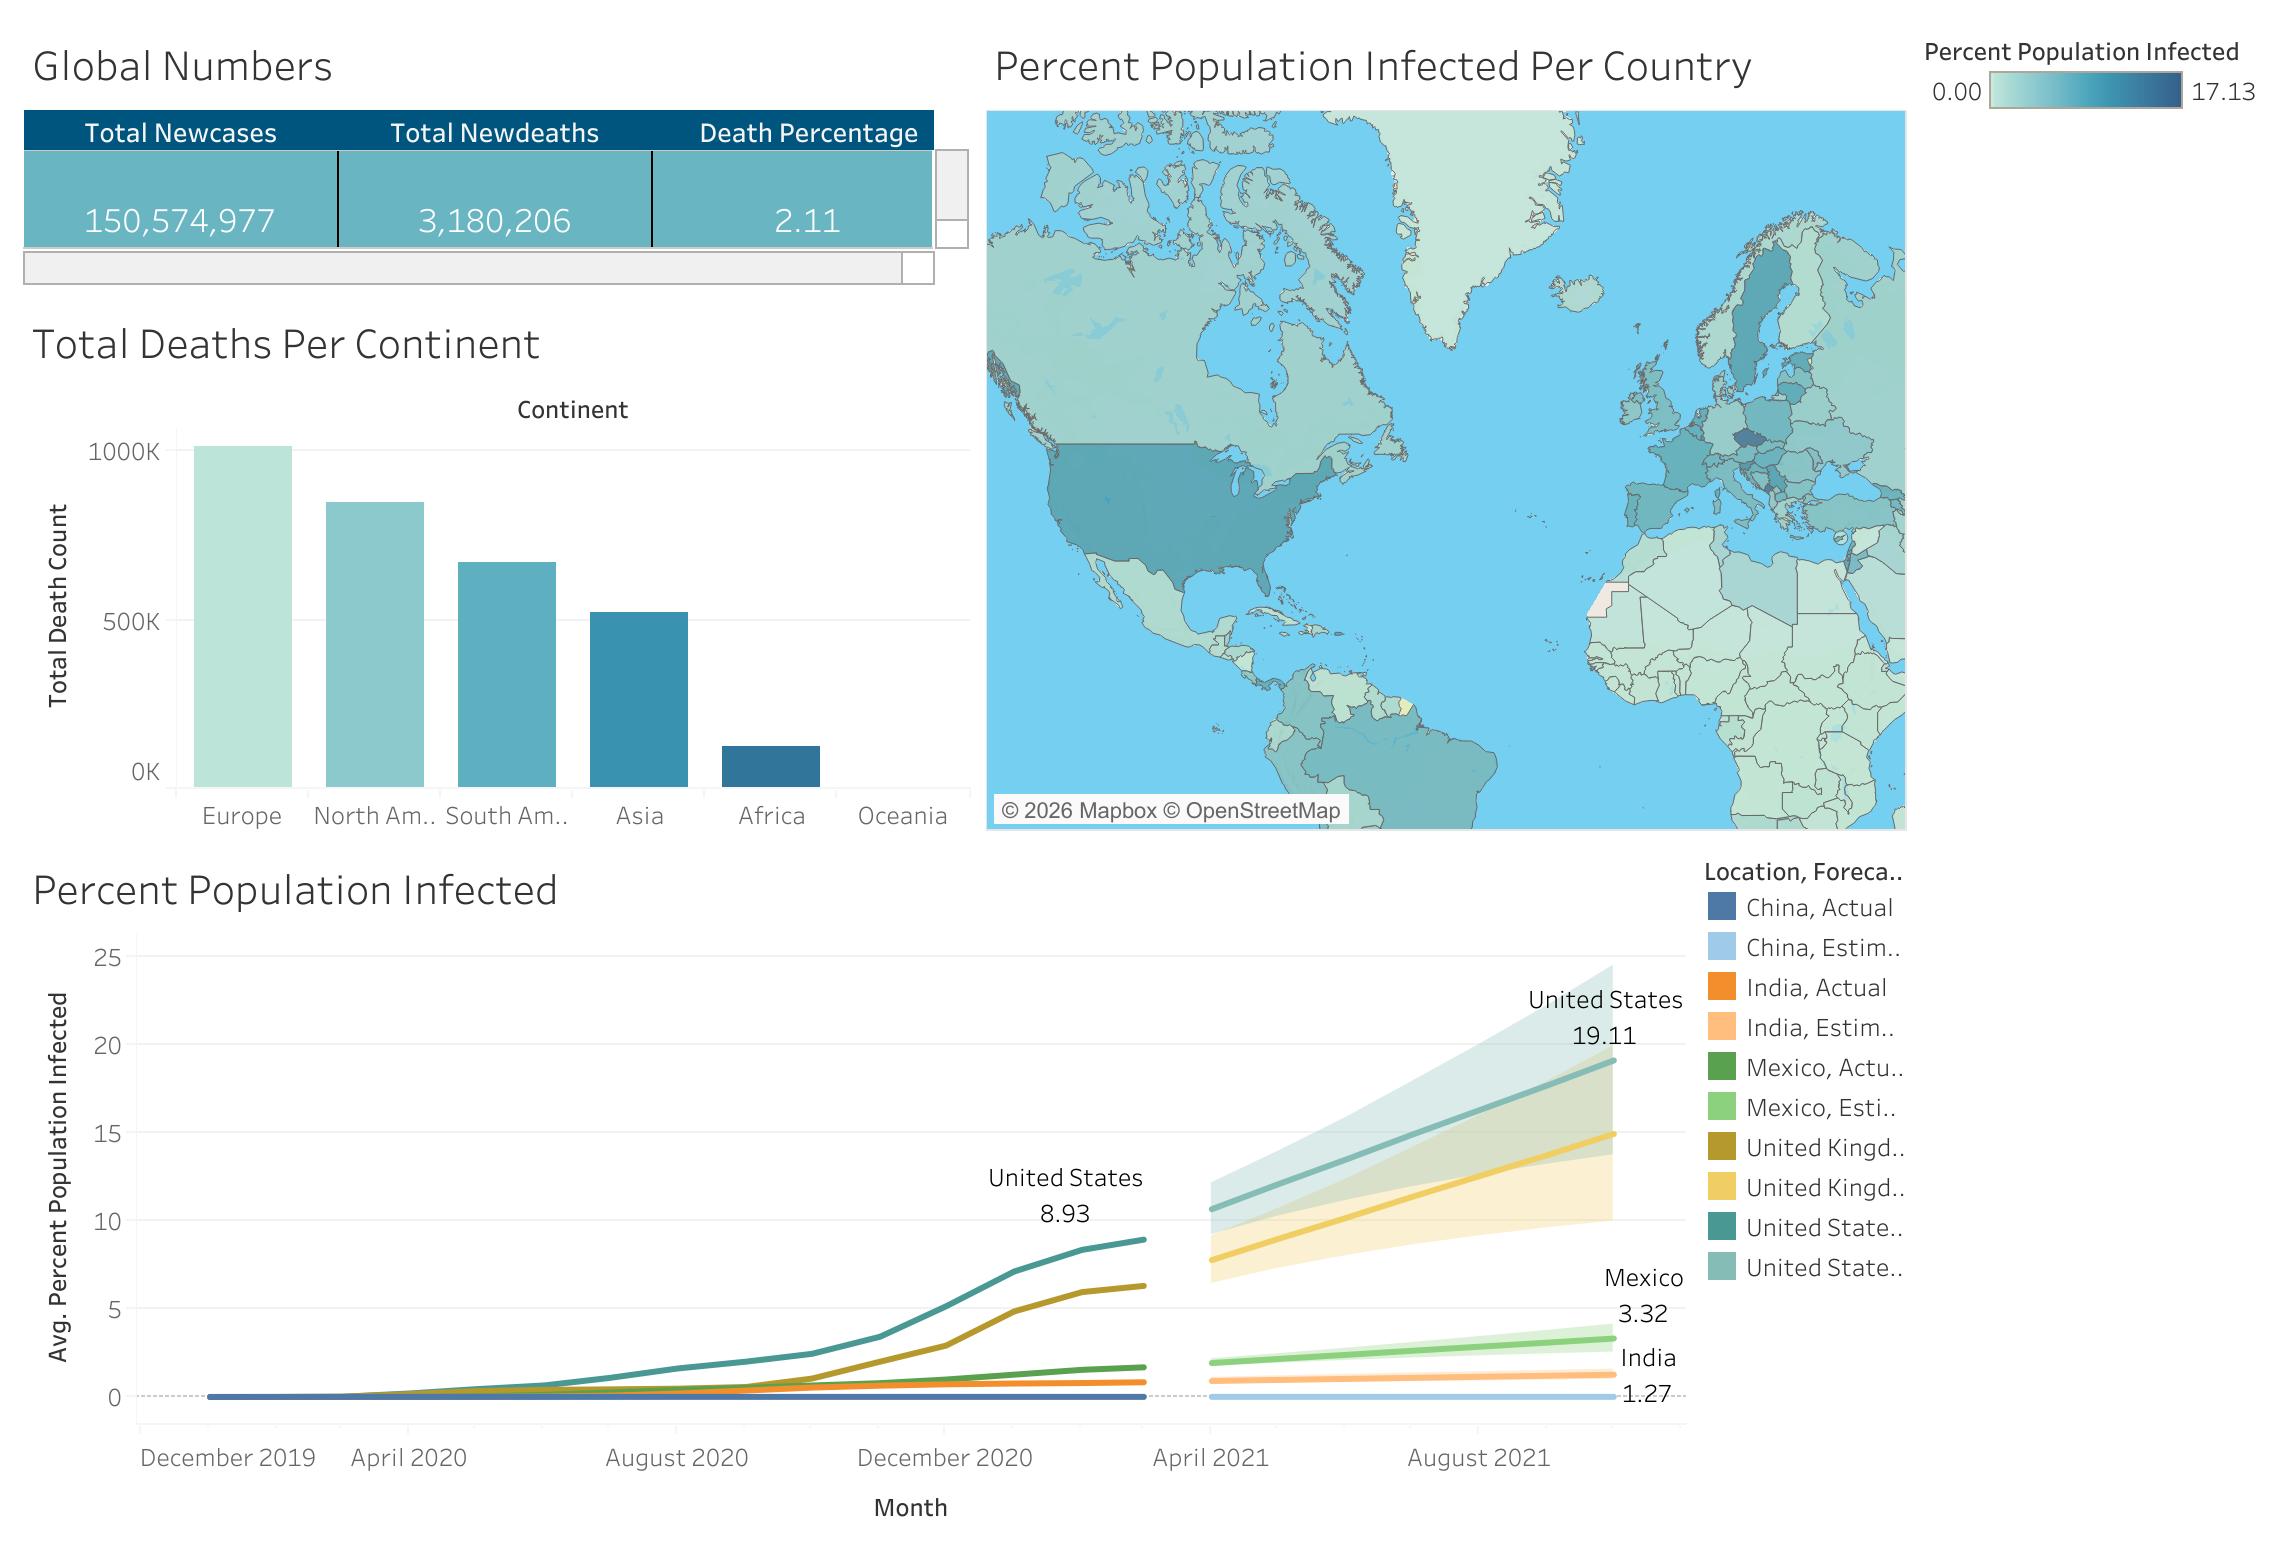

This screenshot's page, from the dashboard's own definition file:
{"tool":"tableau","page":{"name":"Dashboard 1","canvas":[1000,1000],"units":"permille","ordinal":0},"visuals":[{"type":"worksheet","title":"Sheet 1","mark":"Automatic","box":[5.8,9.3,434.8,178.2]},{"type":"worksheet","title":"Sheet 3","mark":"Automatic","box":[440.6,9.3,424.8,528.7]},{"type":"legend","title":"Sheet 3","param":"[federated.1ibxbi50750wmo162p26a1xu5zy7].[sum:PercentPopulationInfected:qk]","box":[865.4,9.3,128.9,75.2]},{"type":"worksheet","title":"Sheet 2","mark":"Automatic","rows":["TotalDeathCount"],"cols":["location"],"box":[5.8,187.5,434.8,350.5]},{"type":"worksheet","title":"Sheet 4","mark":"Automatic","rows":["PercentPopulationInfected"],"cols":["date"],"box":[5.8,538,758.8,452.8]},{"type":"legend","title":"Sheet 4","param":"[federated.04358jf0lvab1h1bzdguo1d5saf3].[none:location:nk]\n[federated.04358jf0l","box":[764.6,538,100.8,452.8]}]}

Visuals, with their boxes on the dashboard's canvas, which has no fixed pixel size, in thousandths of its width and height (x1, y1, x2, y2). These are canvas units, not pixel positions in the 2288x1560 screenshot, which may show the page scaled, cropped or inside an application window:
"Sheet 1" worksheet: pyautogui.locateOnScreen(6, 9, 441, 188)
"Sheet 3" worksheet: pyautogui.locateOnScreen(441, 9, 865, 538)
"Sheet 3" legend: pyautogui.locateOnScreen(865, 9, 994, 84)
"Sheet 2" worksheet: pyautogui.locateOnScreen(6, 188, 441, 538)
"Sheet 4" worksheet: pyautogui.locateOnScreen(6, 538, 765, 991)
"Sheet 4" legend: pyautogui.locateOnScreen(765, 538, 865, 991)
